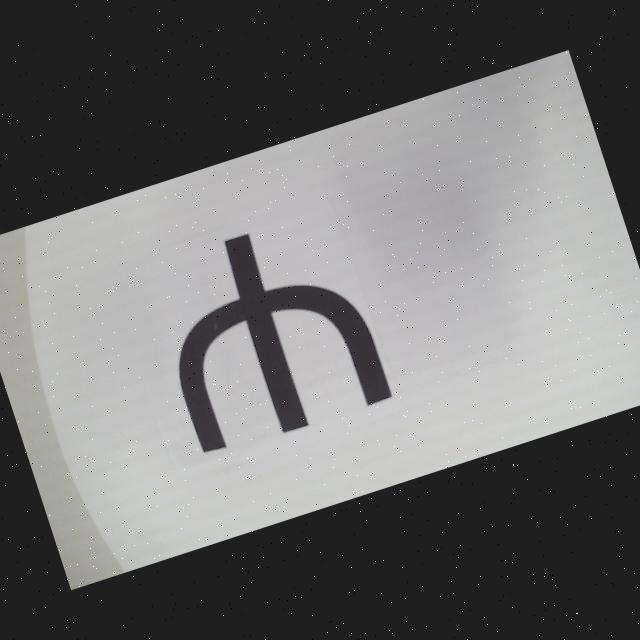PSI: (141, 205, 394, 460)
